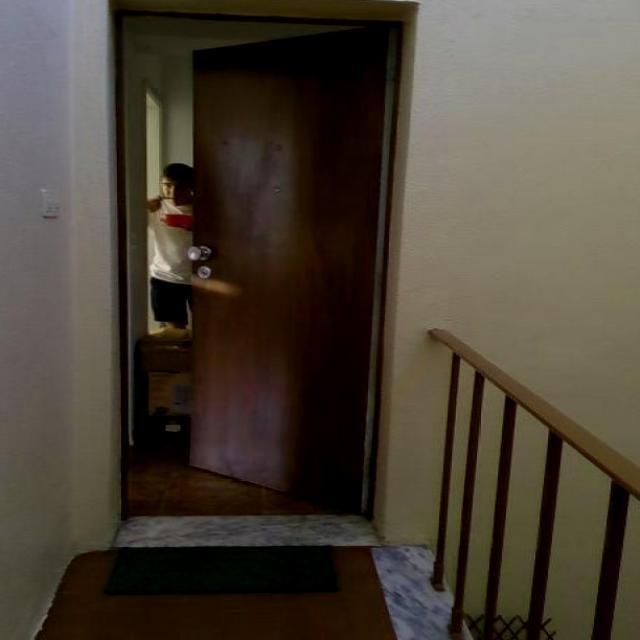door: (186, 26, 391, 514)
